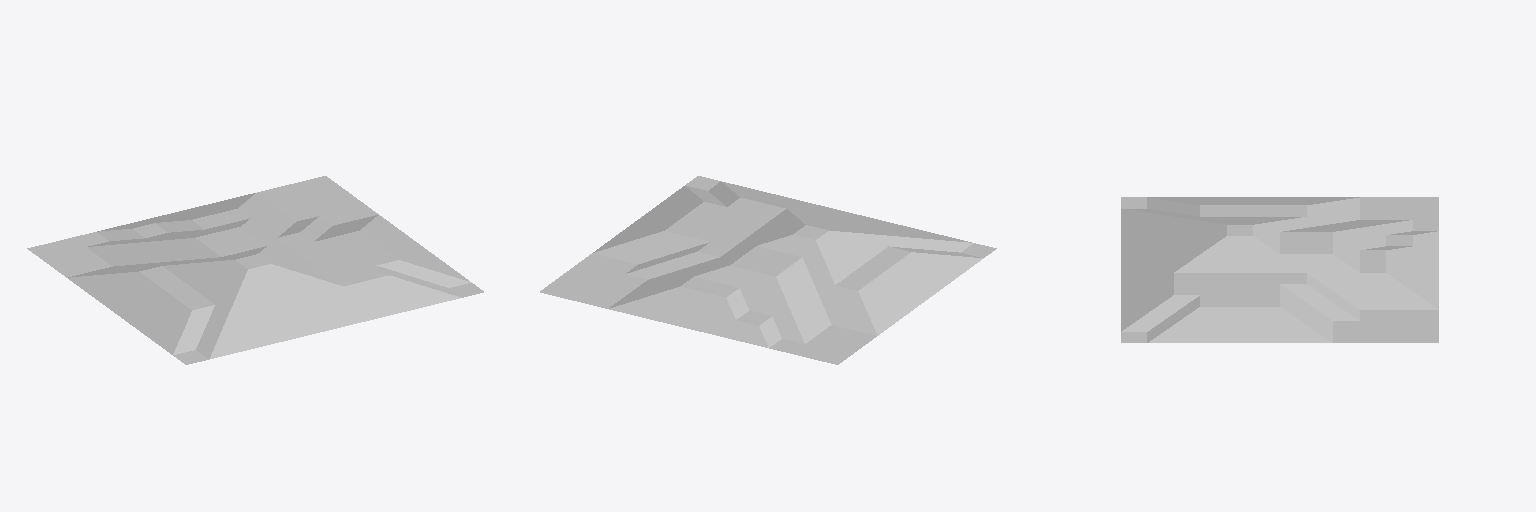
The model's file is terrain.obj.
The picture shows the model from 3 angles: view 1: azimuth 30°, elevation 25°; view 2: azimuth 150°, elevation 25°; view 3: azimuth 270°, elevation 25°; orthographic projection.
Parts seen in each view (by area): view 1: terrain; view 2: terrain; view 3: terrain.
Boxes of the visible parts, x1=… form: terrain: x1=27, y1=176, x2=483, y2=364; terrain: x1=540, y1=176, x2=996, y2=364; terrain: x1=1121, y1=197, x2=1438, y2=342.
Size of the model in its own units: 130 by 12 by 120.